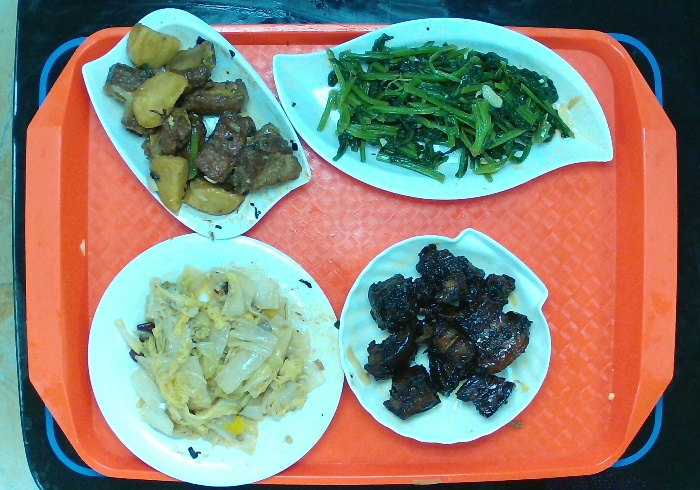RJxy-Bei_Ke_Wan: (333, 218, 558, 444)
RJxy-Jian_Jiao_Fang_Die: (77, 2, 311, 241)
RJxy-Jian_Jiao_Pan: (265, 13, 617, 203)
RJxy-Yuan_Pan: (73, 218, 350, 490)
